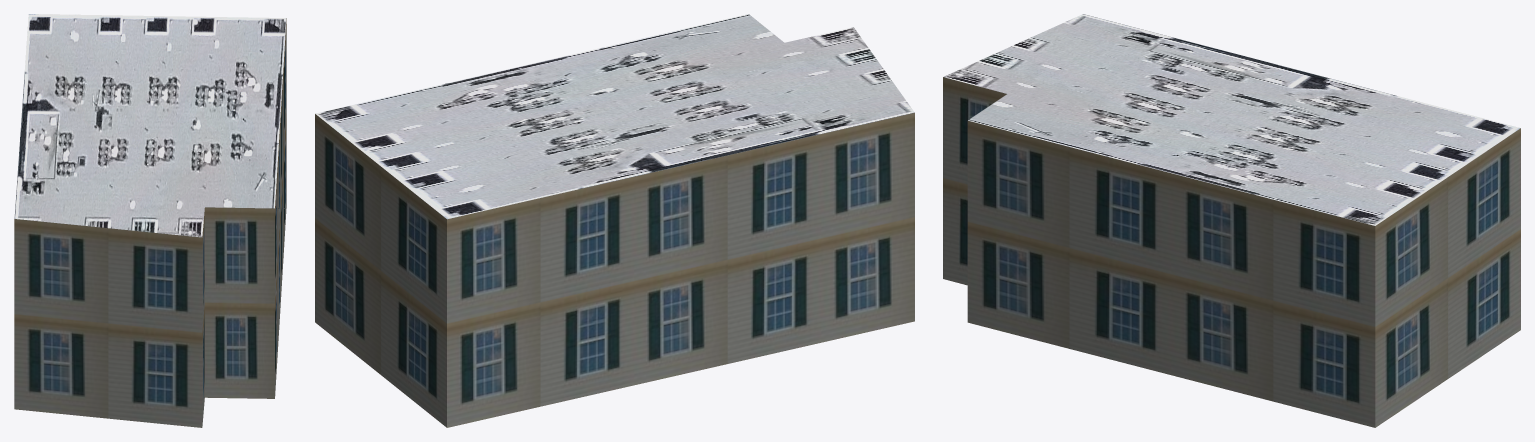
Rendered from ResTex__4847.fbx.
3 views of the same model, side by side, from view 1: azimuth 30°, elevation 25°; view 2: azimuth 150°, elevation 25°; view 3: azimuth 270°, elevation 25° (orthographic). The views are drawn at different scales.
Visible parts, largest first — view 1: CityEngineMaterial_8_m, CityEngineMaterial_7_m; view 2: CityEngineMaterial_7_m, CityEngineMaterial_8_m; view 3: CityEngineMaterial_7_m, CityEngineMaterial_8_m.
Boxes of the visible parts, bbox=[...] form: CityEngineMaterial_8_m: bbox=[14, 14, 286, 237]; CityEngineMaterial_7_m: bbox=[14, 18, 286, 427]; CityEngineMaterial_7_m: bbox=[315, 113, 914, 427]; CityEngineMaterial_8_m: bbox=[315, 14, 914, 219]; CityEngineMaterial_7_m: bbox=[943, 77, 1520, 427]; CityEngineMaterial_8_m: bbox=[944, 14, 1520, 225].
Size of the model in its own units: 13.51 by 6 by 15.56.
2 materials, 2 textured.
